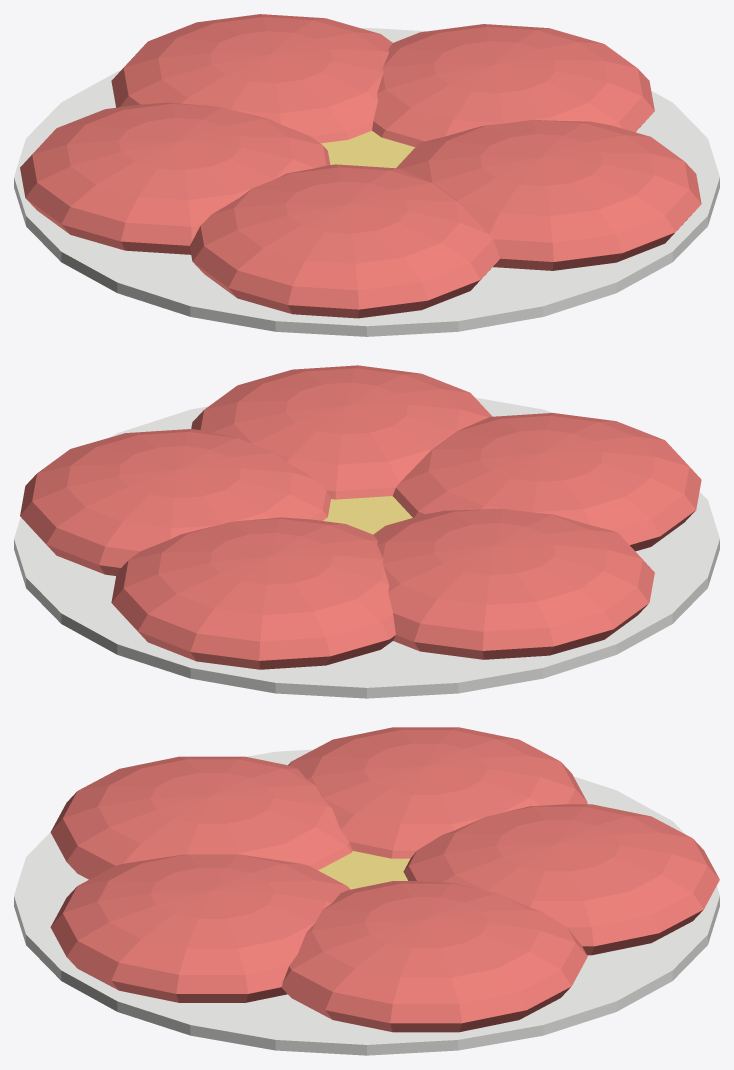
Rendered from item_63_paper_flower.glb.
The picture shows the model from 3 angles, top to bottom: view 1: azimuth 30°, elevation 25°; view 2: azimuth 150°, elevation 25°; view 3: azimuth 270°, elevation 25°; orthographic projection.
Parts seen in each view (by area): view 1: I63_Petal3, I63_Petal2, I63_Backing, I63_Petal4, I63_Petal1, I63_Petal0, I63_Core; view 2: I63_Petal0, I63_Petal4, I63_Backing, I63_Petal1, I63_Petal3, I63_Petal2, I63_Core; view 3: I63_Petal1, I63_Petal2, I63_Backing, I63_Petal0, I63_Petal3, I63_Petal4, I63_Core.
Boxes of the visible parts, x1=… form: I63_Petal3: x1=189, y1=164, x2=500, y2=318; I63_Petal2: x1=396, y1=119, x2=701, y2=270; I63_Backing: x1=14, y1=28, x2=719, y2=336; I63_Petal4: x1=20, y1=102, x2=330, y2=254; I63_Petal1: x1=372, y1=24, x2=654, y2=147; I63_Petal0: x1=111, y1=14, x2=392, y2=143; I63_Core: x1=320, y1=131, x2=414, y2=168; I63_Petal0: x1=111, y1=517, x2=395, y2=669; I63_Petal4: x1=373, y1=508, x2=654, y2=659; I63_Backing: x1=14, y1=397, x2=719, y2=698; I63_Petal1: x1=20, y1=429, x2=330, y2=575; I63_Petal3: x1=393, y1=413, x2=701, y2=551; I63_Petal2: x1=191, y1=365, x2=492, y2=499; I63_Core: x1=323, y1=496, x2=412, y2=534; I63_Petal1: x1=282, y1=881, x2=587, y2=1032; I63_Petal2: x1=50, y1=854, x2=349, y2=1002; I63_Backing: x1=14, y1=749, x2=719, y2=1055; I63_Petal0: x1=403, y1=804, x2=719, y2=955; I63_Petal3: x1=50, y1=756, x2=352, y2=879; I63_Petal4: x1=288, y1=727, x2=587, y2=858; I63_Core: x1=318, y1=851, x2=409, y2=889.
Size of the model in its own units: 0.048 by 0.0055 by 0.048.
